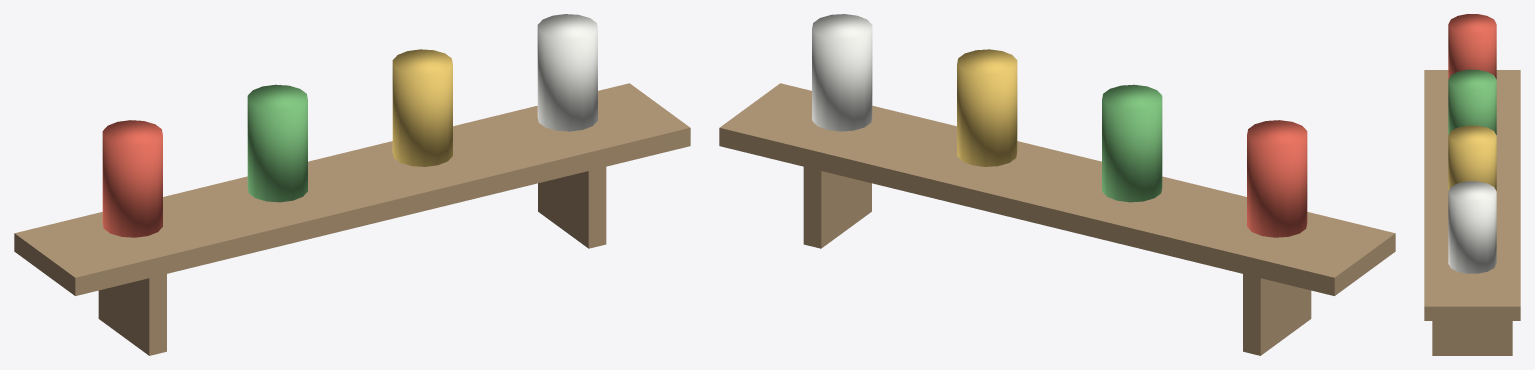
File: shelf.fbx
The picture shows the model from 3 angles, left to right: view 1: azimuth 30°, elevation 25°; view 2: azimuth 150°, elevation 25°; view 3: azimuth 270°, elevation 25°; orthographic projection. The views are drawn at different scales.
Visible parts, largest first — view 1: shelf; view 2: shelf; view 3: shelf.
Part boxes in pixels (bbox=[...]): shelf: bbox=[14, 14, 690, 355]; shelf: bbox=[719, 14, 1395, 355]; shelf: bbox=[1424, 14, 1520, 355].
Bounding box in the file's own units: 1.4 × 0.44 × 0.24.
